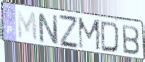B: (121, 24, 141, 56)
D: (100, 20, 121, 54)
M: (77, 16, 102, 53), (16, 9, 39, 43)
N: (37, 11, 60, 46)
Z: (58, 13, 80, 50)
